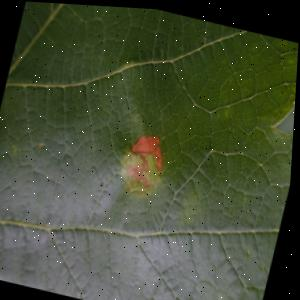Folha: (0, 0, 300, 300)
Fungo: (115, 125, 171, 197), (128, 128, 169, 169), (124, 149, 157, 186)
